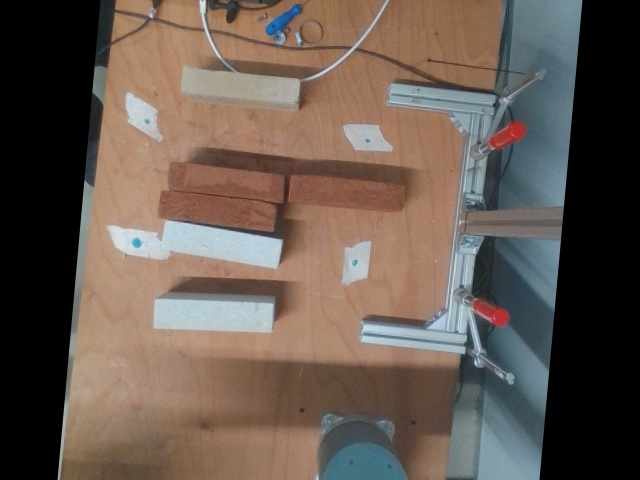brick-side: (160, 220, 280, 267), (166, 163, 285, 202), (286, 174, 405, 213), (180, 67, 299, 106), (157, 192, 275, 229), (154, 296, 272, 331)
